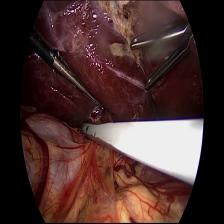Grasper: (127, 14, 194, 94), (52, 51, 110, 113)
Irrigator: (79, 120, 100, 139)
